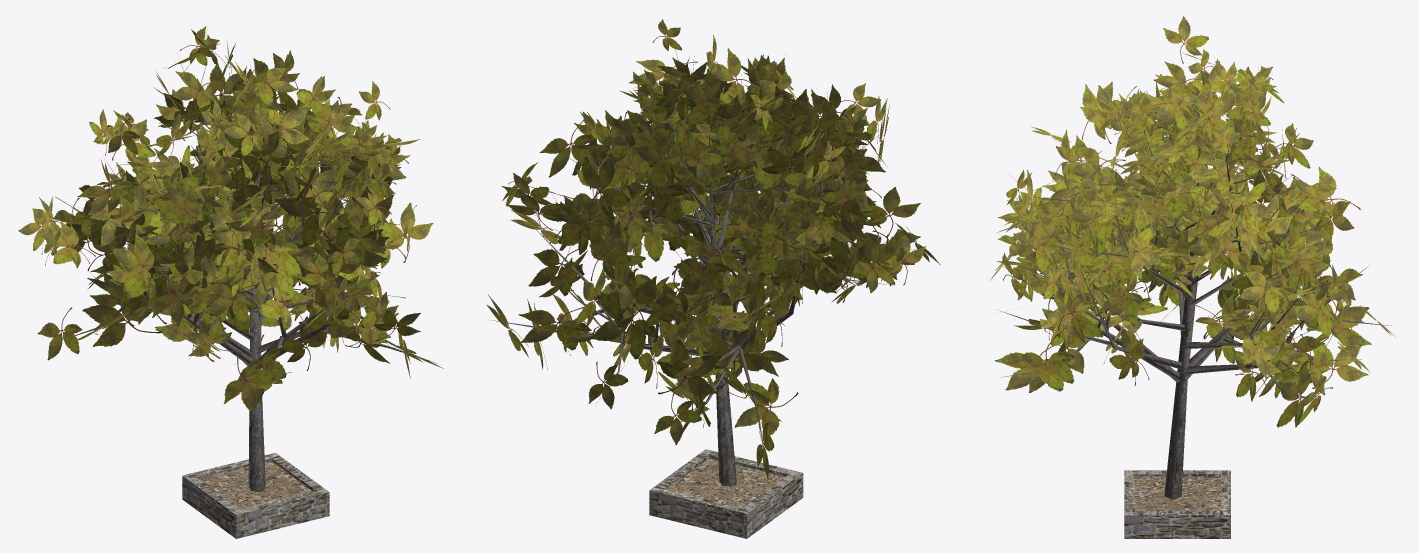
Rendered from Tree.FBX.
The picture shows the model from 3 angles, left to right: view 1: azimuth 30°, elevation 25°; view 2: azimuth 150°, elevation 25°; view 3: azimuth 270°, elevation 25°; orthographic projection. The views are drawn at different scales.
Parts seen in each view (by area): view 1: Tree, Structure tree; view 2: Tree, Structure tree; view 3: Tree, Structure tree.
Boxes of the visible parts, <box> form: Tree: <box>18,26,443,491</box>; Structure tree: <box>182,453,329,538</box>; Tree: <box>486,19,940,486</box>; Structure tree: <box>649,449,803,538</box>; Tree: <box>990,16,1394,499</box>; Structure tree: <box>1124,470,1230,538</box>.
Size of the model in its own units: 306 by 350 by 295.
4 materials, 4 textured.
